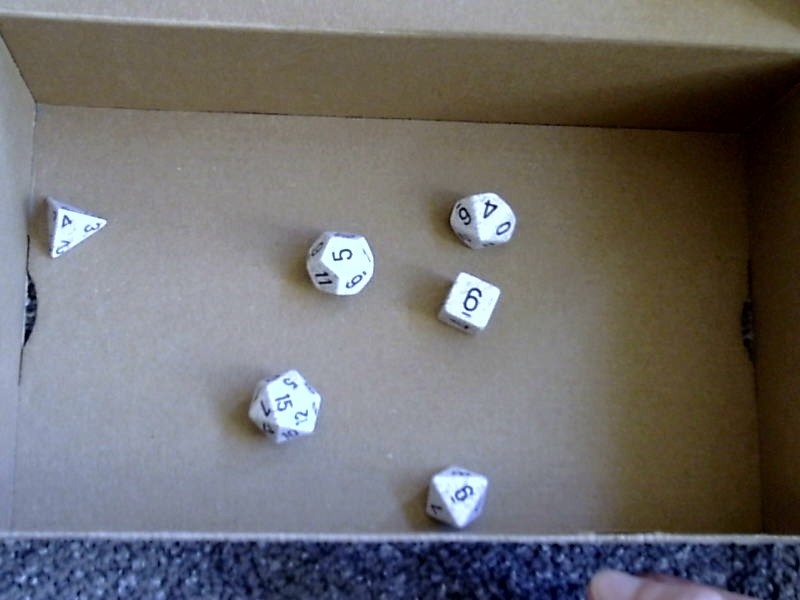d10 4: (441, 189, 520, 251)
d12 5: (298, 226, 378, 299)
d20 15: (243, 366, 324, 446)
d4 4: (38, 192, 109, 261)
d6 6: (429, 268, 502, 335)
d8 6: (415, 460, 493, 531)
